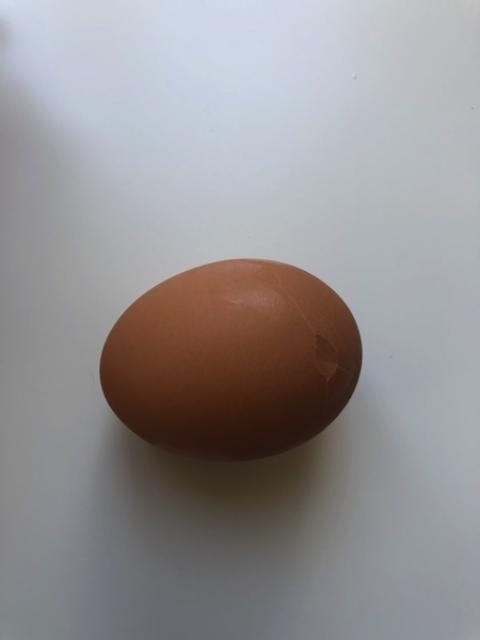Roto: (98, 256, 363, 462)
